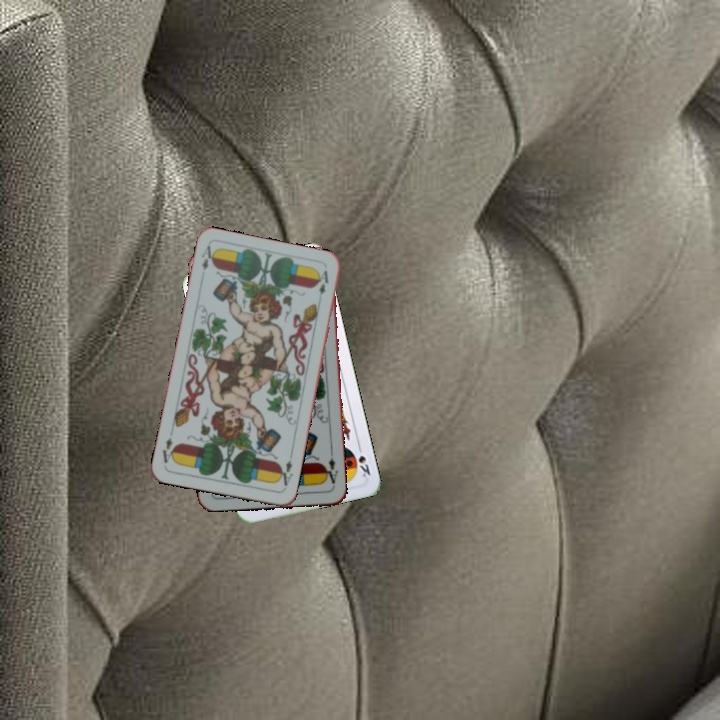EA: (197, 241, 218, 282), (274, 451, 295, 488), (321, 454, 341, 486)
SK: (354, 440, 373, 480)
